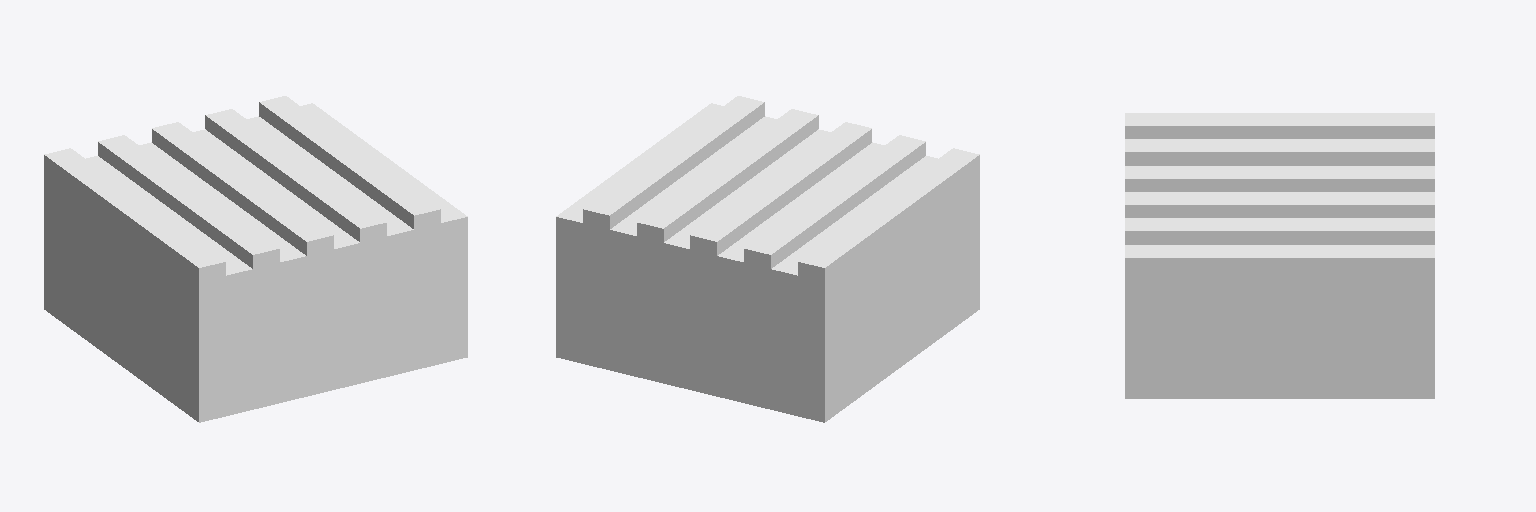
File: Plow_Ground.obj
The picture shows the model from 3 angles: view 1: azimuth 30°, elevation 25°; view 2: azimuth 150°, elevation 25°; view 3: azimuth 270°, elevation 25°; orthographic projection.
Parts seen in each view (by area): view 1: Plow_Ground; view 2: Plow_Ground; view 3: Plow_Ground.
Boxes of the visible parts, x1,y1,x2,y2 form: Plow_Ground: [44, 96, 467, 422]; Plow_Ground: [556, 96, 979, 422]; Plow_Ground: [1125, 113, 1434, 398].
Size of the model in its own units: 20 by 11 by 20.